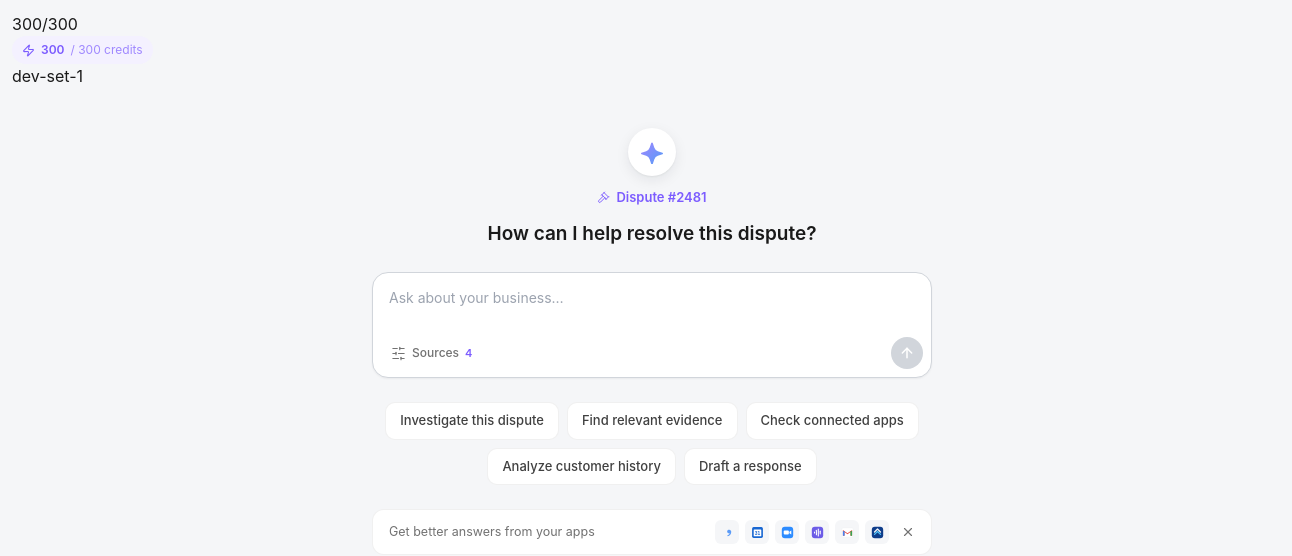
Test: chat credit system › I. failed technical requests are never charged › dispute/legacy: a network failure produces an error message and charges nothing
Click the button "Investigate this dispute" at (472, 421), box [385, 402, 559, 440]
Wait 3000 ms
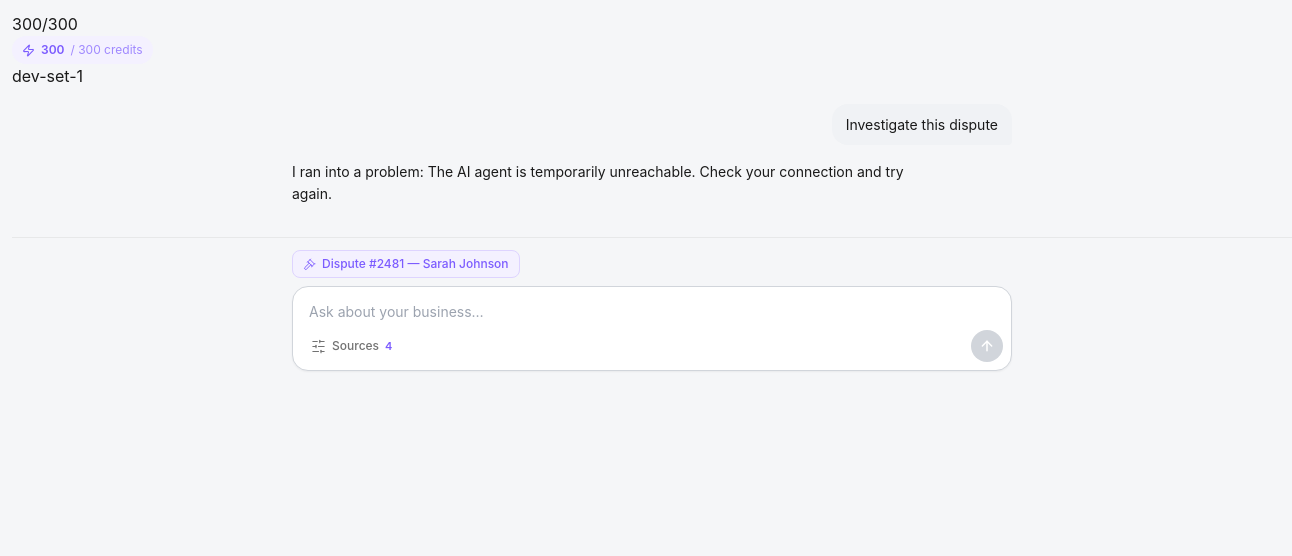
Expected: the text with test id "credits-readout" reads "300/300", [12, 14, 78, 34]
Expected: the text "temporarily unreachable" is shown, [292, 163, 904, 202]
